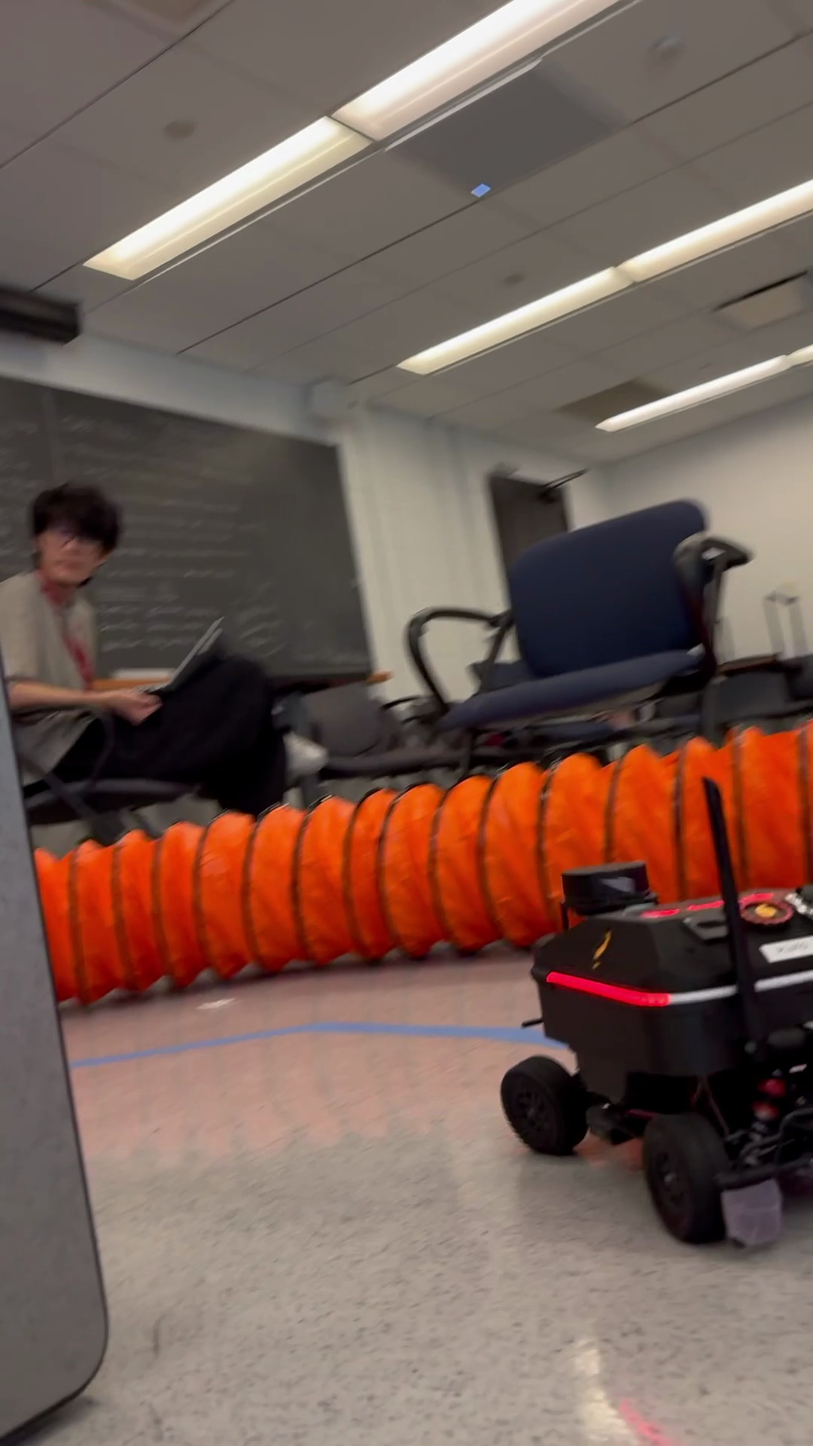racecar: (498, 765, 813, 1254)
